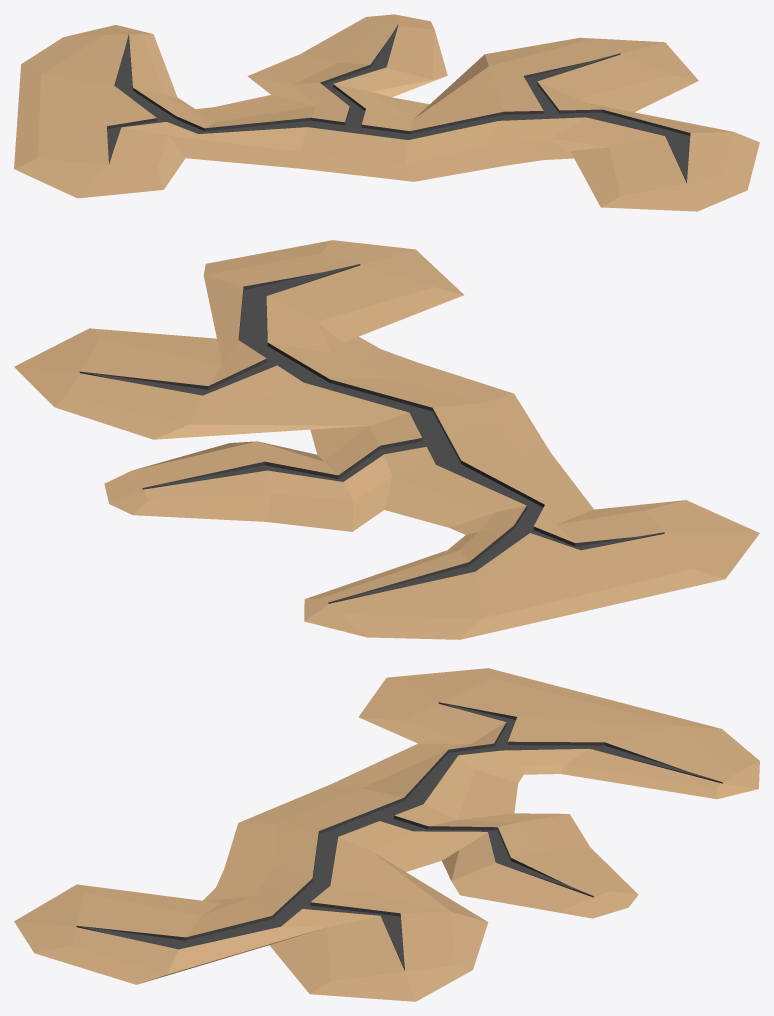
Rendered from Crack_2.fbx.
3 renders of one model, top to bottom at view 1: azimuth 30°, elevation 25°; view 2: azimuth 150°, elevation 25°; view 3: azimuth 270°, elevation 25°, orthographic. The views are drawn at different scales.
Visible parts, largest first — view 1: Crack_2; view 2: Crack_2; view 3: Crack_2.
Part boxes in pixels (bbox=[...]): Crack_2: bbox=[14, 14, 759, 211]; Crack_2: bbox=[14, 240, 759, 639]; Crack_2: bbox=[14, 668, 759, 1001].
Bounding box in the file's own units: 320 × 303 × 3.73.
